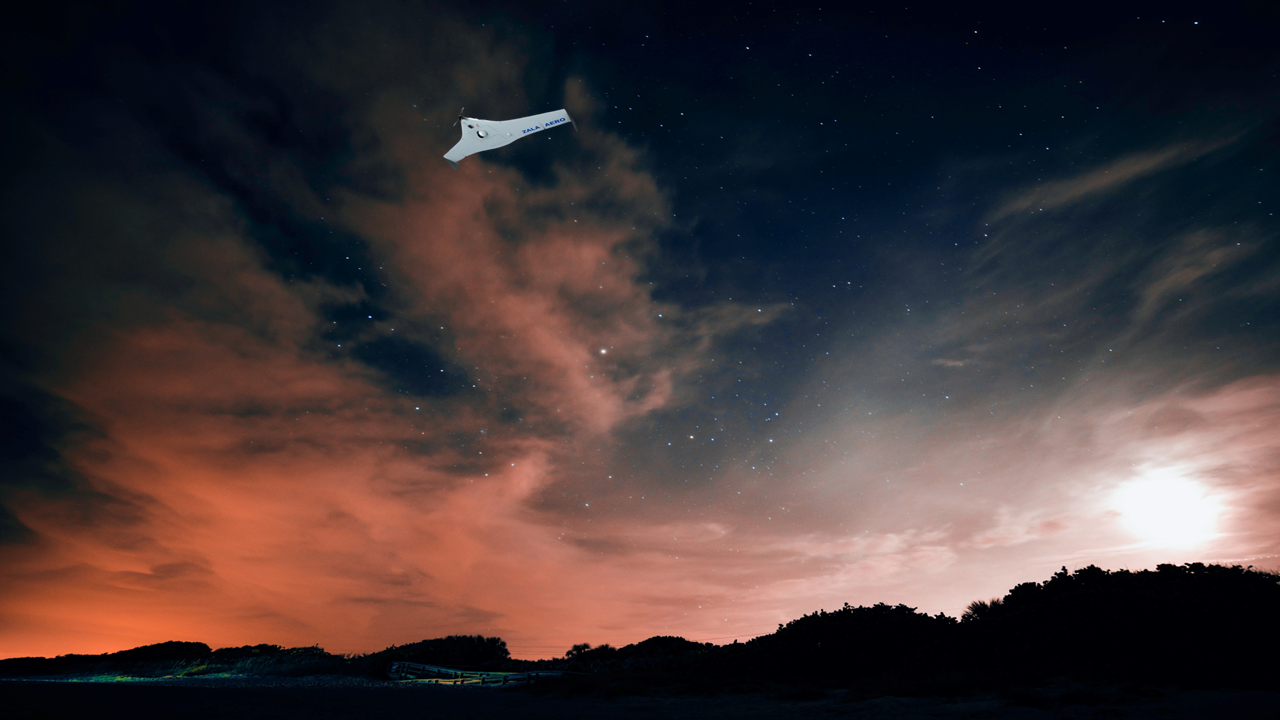military drone: (442, 107, 577, 170)
